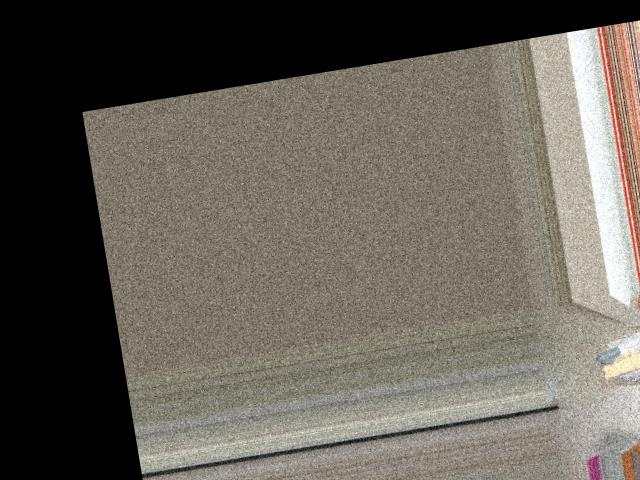cheese: (587, 306, 640, 391)
